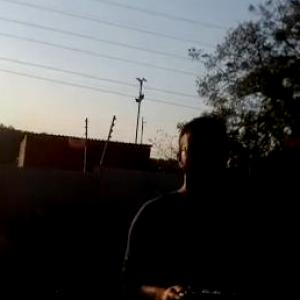follow: (113, 113, 258, 299)
